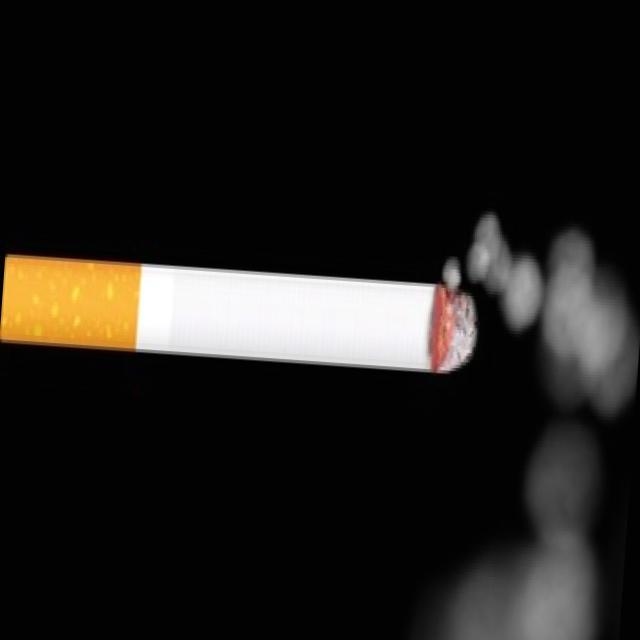cigarette: (0, 235, 501, 387)
